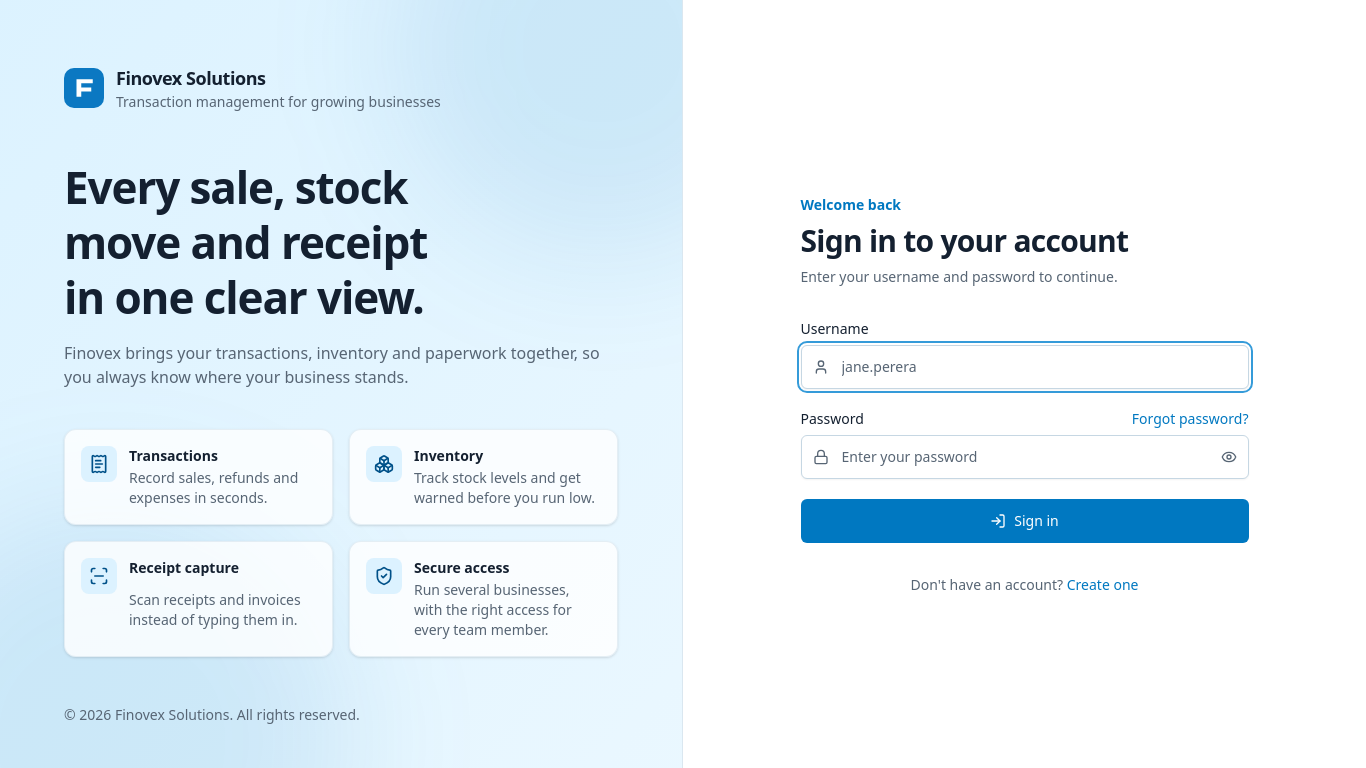
Test case: LoginPage › shows how to get a forgotten password reset
Click the button "Forgot password?". click: coordinates (1190, 418)
box: [1132,408,1248,428]
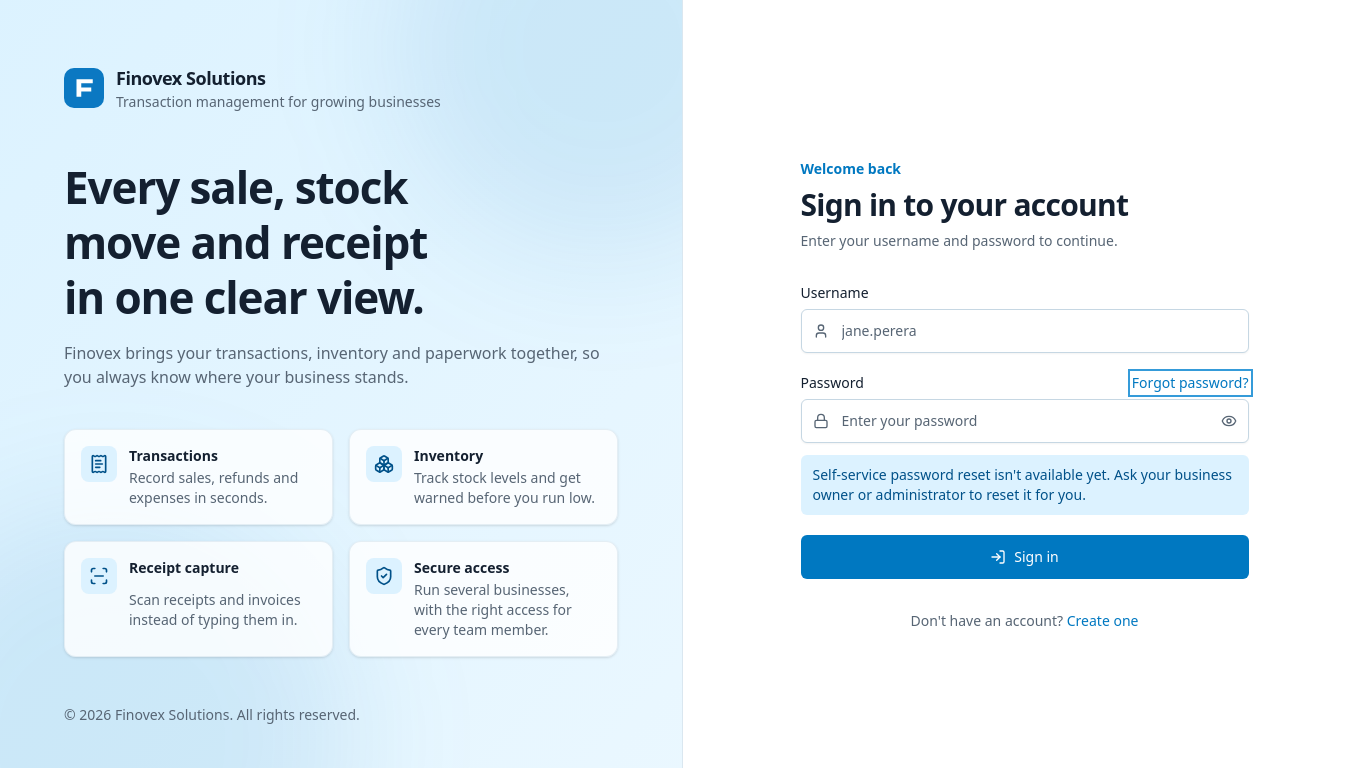
Check: the text "ask your business owner or administrator" is shown, box [812,464,1232,504]
